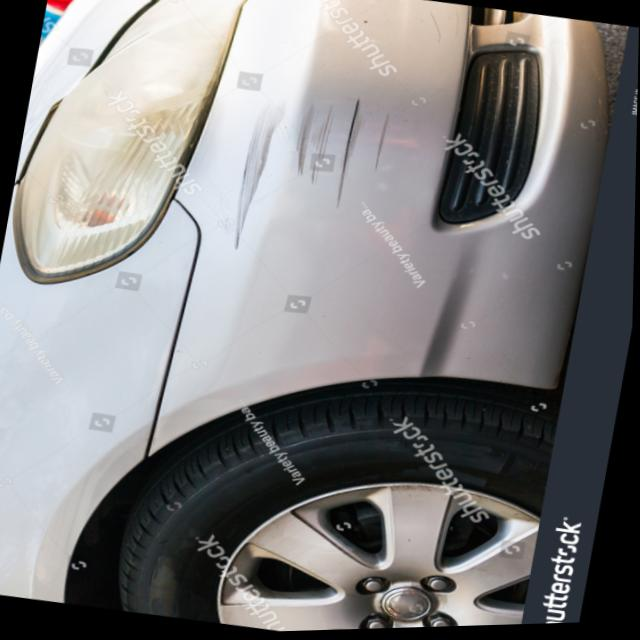Scratch: (213, 61, 419, 274)
